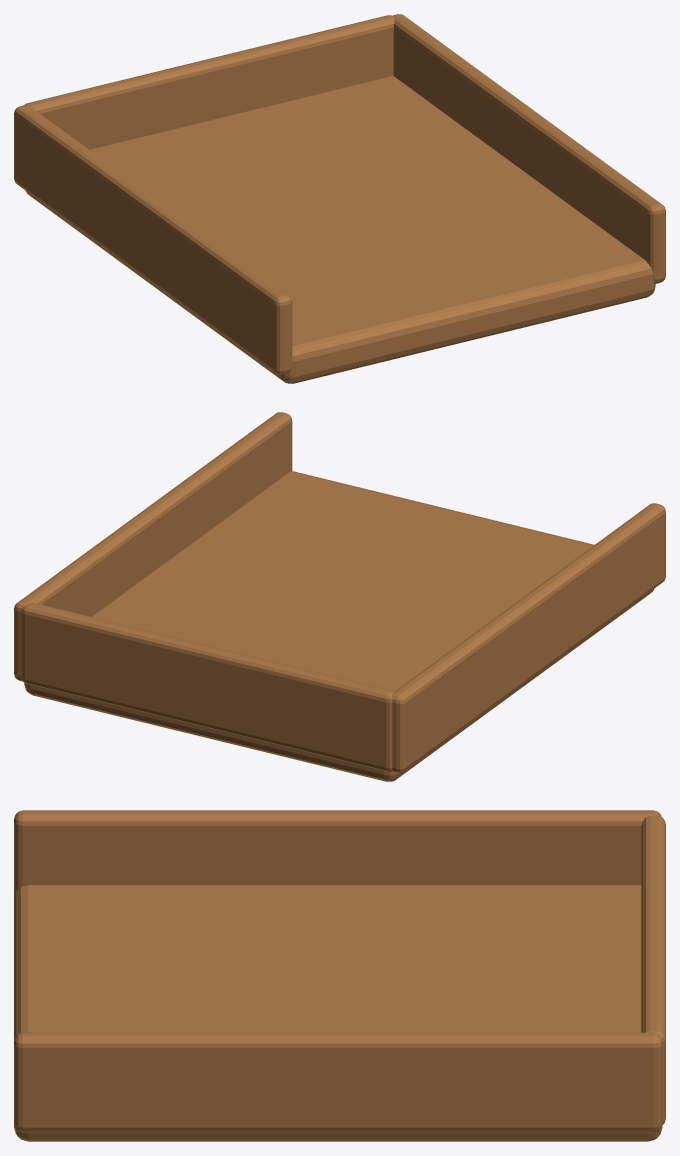
Rendered from ReviewTray.fbx.
3 renders of one model, top to bottom at view 1: azimuth 30°, elevation 25°; view 2: azimuth 150°, elevation 25°; view 3: azimuth 270°, elevation 25°, orthographic. The views are drawn at different scales.
Parts seen in each view (by area): view 1: Base, Side.004, Back.002, Side.005; view 2: Base, Back.002, Side.004, Side.005; view 3: Base, Side.005, Side.004, Back.002.
Part boxes in pixels (box(x1,y1,x2,y2)): Base: box(26, 76, 655, 383); Side.004: box(14, 105, 292, 374); Back.002: box(23, 15, 394, 149); Side.005: box(393, 14, 665, 283); Base: box(24, 471, 653, 781); Back.002: box(21, 602, 394, 771); Side.004: box(392, 503, 665, 772); Side.005: box(14, 412, 292, 681); Base: box(14, 885, 662, 1141); Side.005: box(14, 1032, 662, 1132); Side.004: box(14, 810, 661, 897); Back.002: box(641, 815, 665, 1125).
Bounding box in the file's own units: 0.314 × 0.07 × 0.372.
